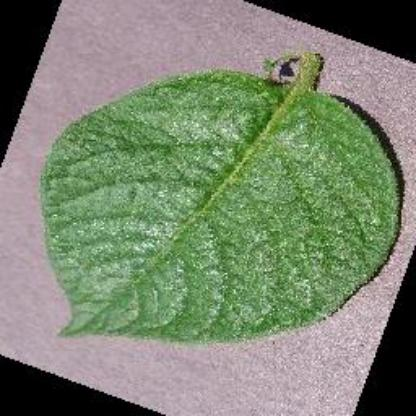Healthy-plant: (40, 47, 406, 344)
